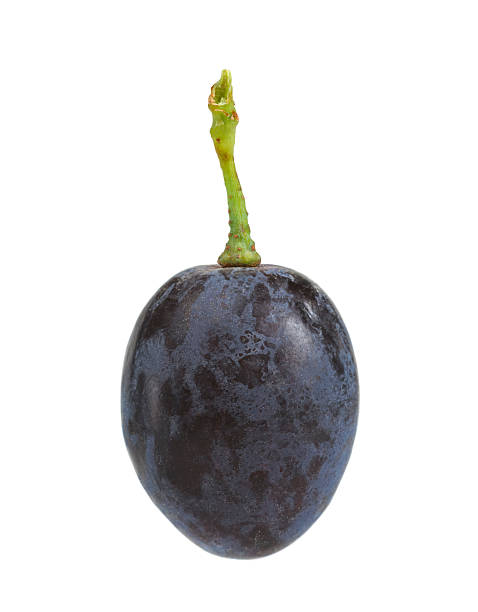grapes: (72, 50, 425, 581)
